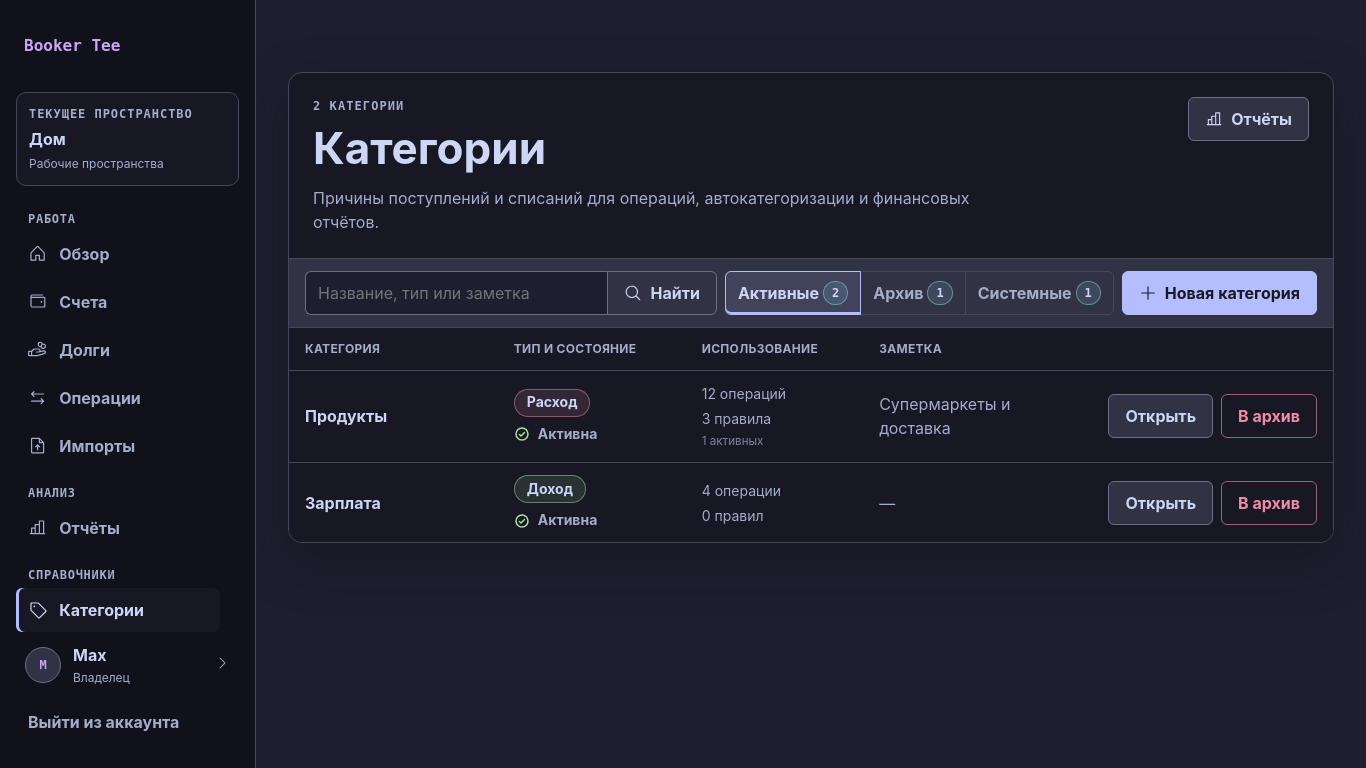
Test: CategoriesPage › archives a category from the directory after explicit confirmation
The image size is (1366, 768).
Expected: the text "Зарплата" is shown, [305,480,381,524]
Click the button "В архив" in the row of "Зарплата": (1269, 502) [1221,480,1317,524]
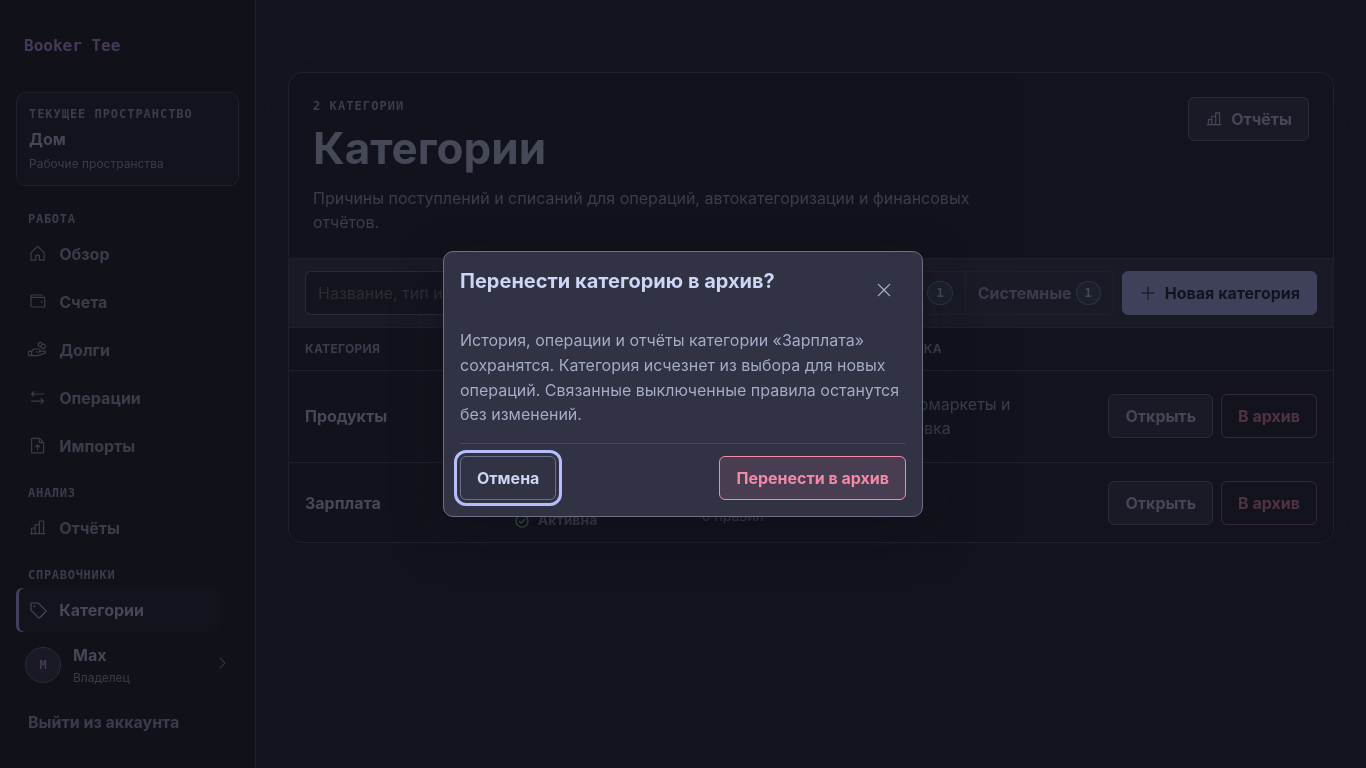
Expected: the text "История, операции и отчёты" is shown, [460,330,899,424]
Click the button "Перенести в архив": (813, 478) [719,456,906,500]
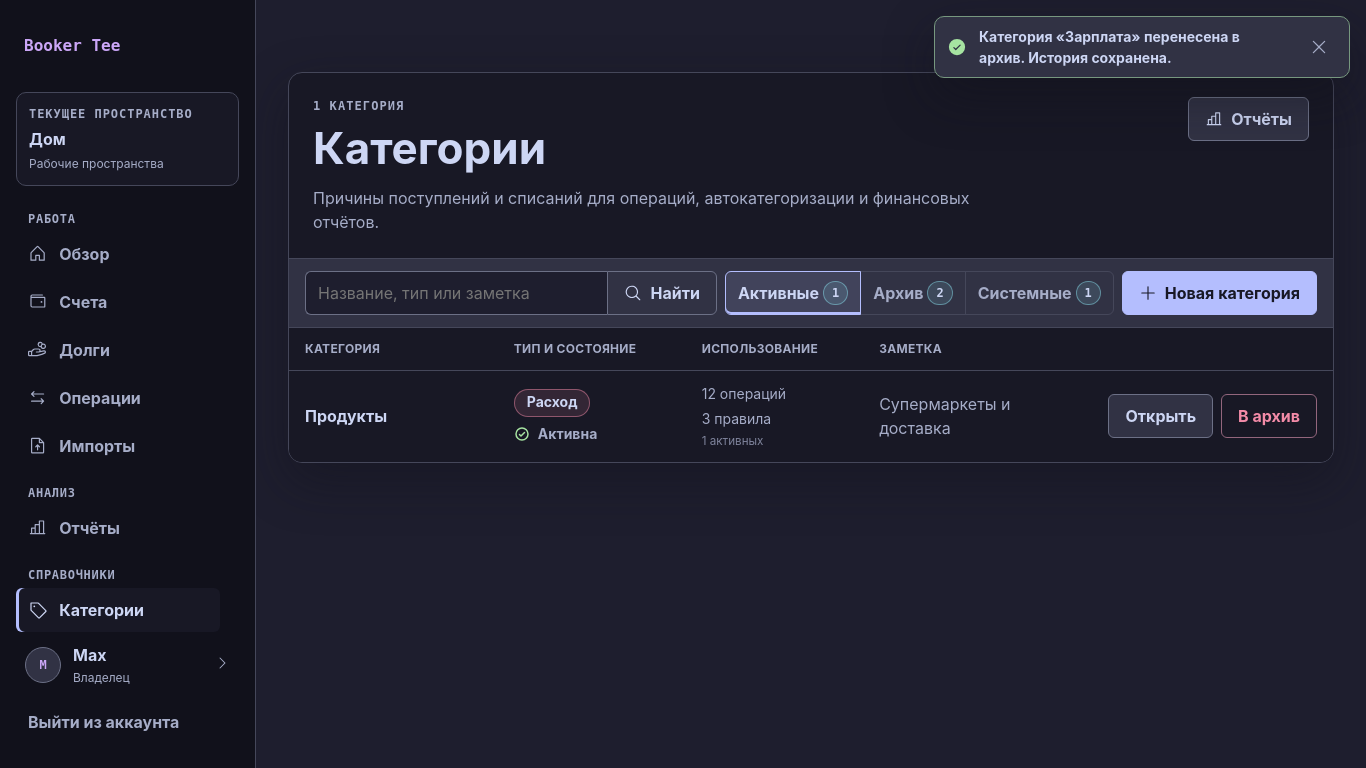
Expected: the text "Категория «Зарплата» перенесена в архив. История сохранена." is shown, [979,26,1285,68]
Expected: the link "Активные 1" is shown, [725,271,861,315]
